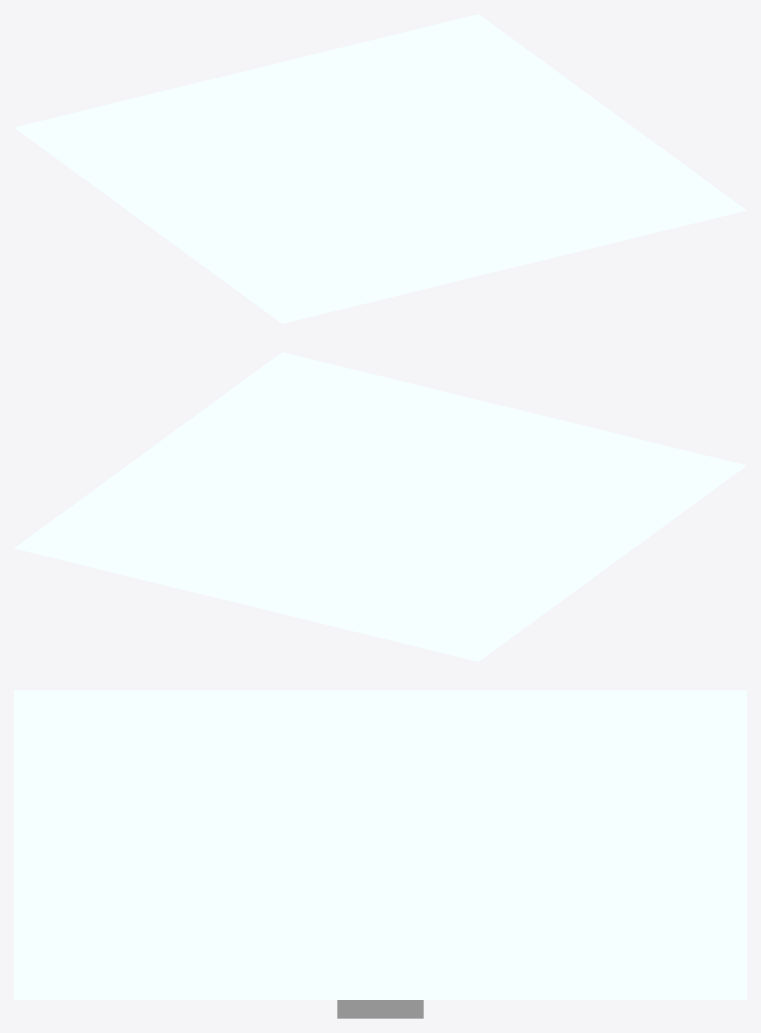
The model's file is Wave.glb.
The picture shows the model from 3 angles, top to bottom: view 1: azimuth 30°, elevation 25°; view 2: azimuth 150°, elevation 25°; view 3: azimuth 270°, elevation 25°; orthographic projection. The views are drawn at different scales.
Visible parts, largest first — view 1: Wave; view 2: Wave; view 3: Wave, Cube.
Boxes of the visible parts, box(x1,y1,x2,y2) form: Wave: box(14, 14, 746, 323); Wave: box(14, 352, 746, 661); Wave: box(14, 690, 746, 999); Cube: box(337, 1000, 423, 1018).
Size of the model in its own units: 16.95 by 3.96 by 16.95.
